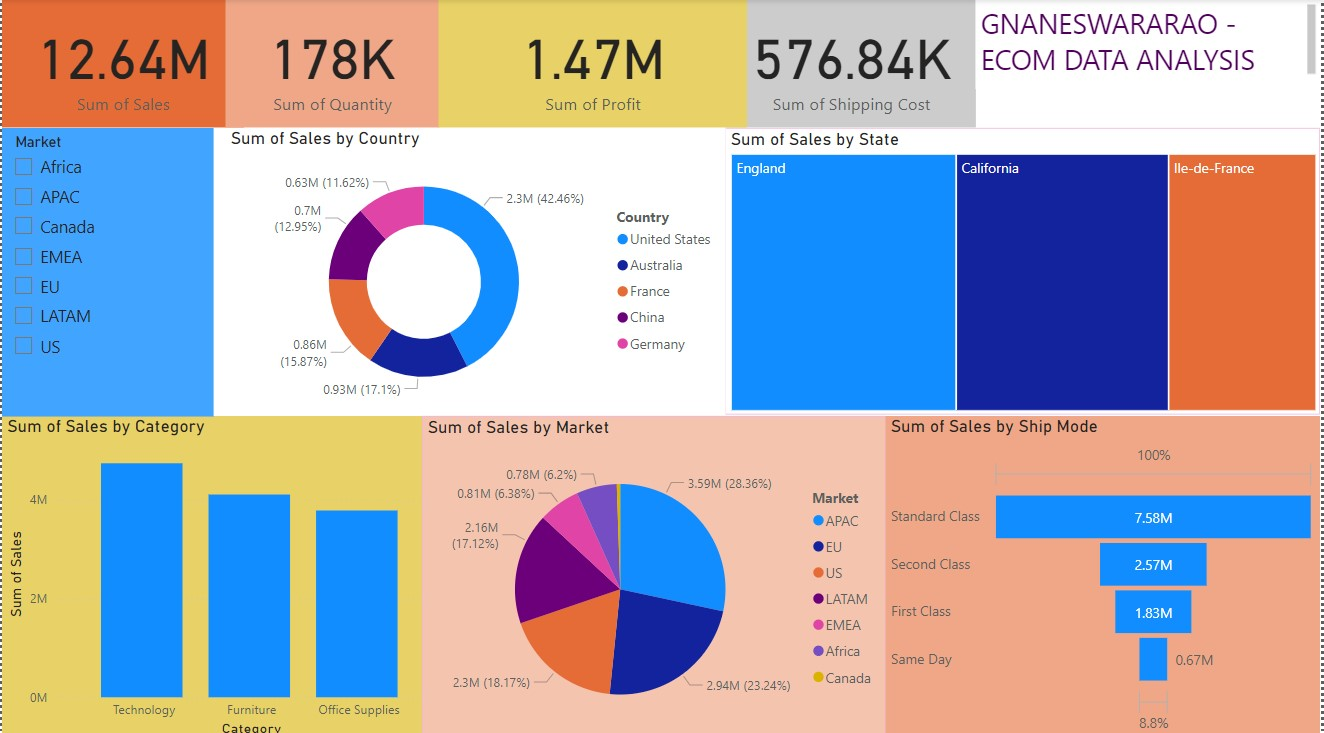

The dashboard page shown, as its layout file describes it:
{"tool":"powerbi","page":{"name":"Page 1","canvas":[1280,720],"ordinal":0},"visuals":[{"type":"columnChart","fields":{"Category":["Orders.Category"],"Y":["Sum(Orders.Sales)"]},"box":[0,404.4,434.6,315.6],"z":0},{"type":"pieChart","fields":{"Category":["Orders.Market"],"Y":["Sum(Orders.Sales)"]},"box":[389.9,402.9,467.6,315.5],"z":1000},{"type":"funnel","fields":{"Category":["Orders.Ship Mode"],"Y":["Sum(Orders.Sales)"]},"box":[857.5,404.5,422.3,313.9],"z":2000},{"type":"card","fields":{"Values":["Sum(Orders.Shipping Cost)"]},"box":[703,0,241.9,124.7],"z":3000},{"type":"treemap","fields":{"Group":["Orders.State"],"Values":["Sum(Orders.Sales)"]},"box":[702.2,124.6,577.6,278.3],"z":4000},{"type":"card","fields":{"Values":["Sum(Orders.Sales)"]},"box":[0,0,234.6,124.6],"z":5000},{"type":"card","fields":{"Values":["Sum(Orders.Quantity)"]},"box":[216.8,0,207.1,124.6],"z":6000},{"type":"card","fields":{"Values":["Sum(Orders.Profit)"]},"box":[423.9,0,299.3,124.6],"z":7000},{"type":"slicer","fields":{"Values":["Orders.Market"]},"box":[0,124.6,205.5,279.9],"z":8000},{"type":"donutChart","fields":{"Category":["Orders.Country"],"Y":["Sum(Orders.Sales)"]},"box":[216.8,124.6,485.4,278.3],"z":9000},{"type":"textbox","box":[944.9,0,334.9,87.4],"z":9001}]}

Visuals, with their boxes in screenshot pixels (x1, y1, x2, y2), scaled from the page's 1280x720 canvas onto the 1324x733 screenshot:
columnChart - Orders.Category x Sum(Orders.Sales): crop(0, 412, 450, 732)
pieChart - Orders.Market x Sum(Orders.Sales): crop(403, 410, 887, 731)
funnel - Orders.Ship Mode x Sum(Orders.Sales): crop(887, 412, 1323, 731)
card - Sum(Orders.Shipping Cost): crop(727, 0, 977, 127)
treemap - Orders.State x Sum(Orders.Sales): crop(726, 127, 1323, 410)
card - Sum(Orders.Sales): crop(0, 0, 243, 127)
card - Sum(Orders.Quantity): crop(224, 0, 438, 127)
card - Sum(Orders.Profit): crop(438, 0, 748, 127)
slicer - Orders.Market: crop(0, 127, 213, 412)
donutChart - Orders.Country x Sum(Orders.Sales): crop(224, 127, 726, 410)
textbox: crop(977, 0, 1323, 89)
